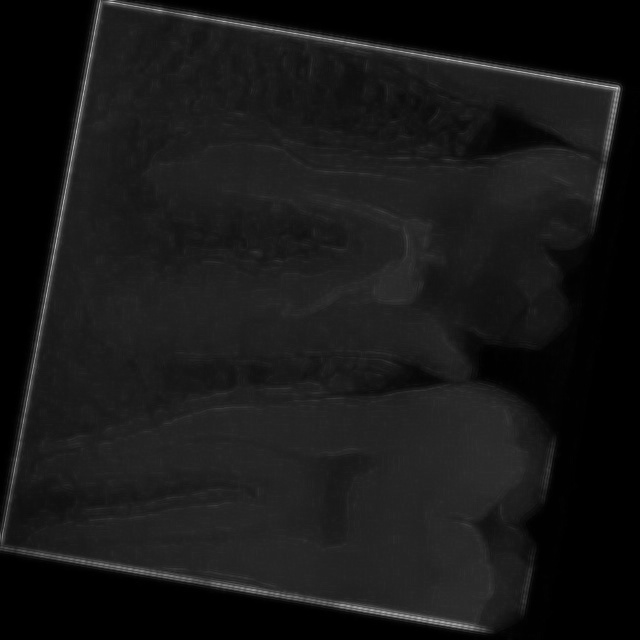Class 2- incomplete endodontic treatment: (59, 51, 598, 455)
cavity: (16, 303, 560, 636)
